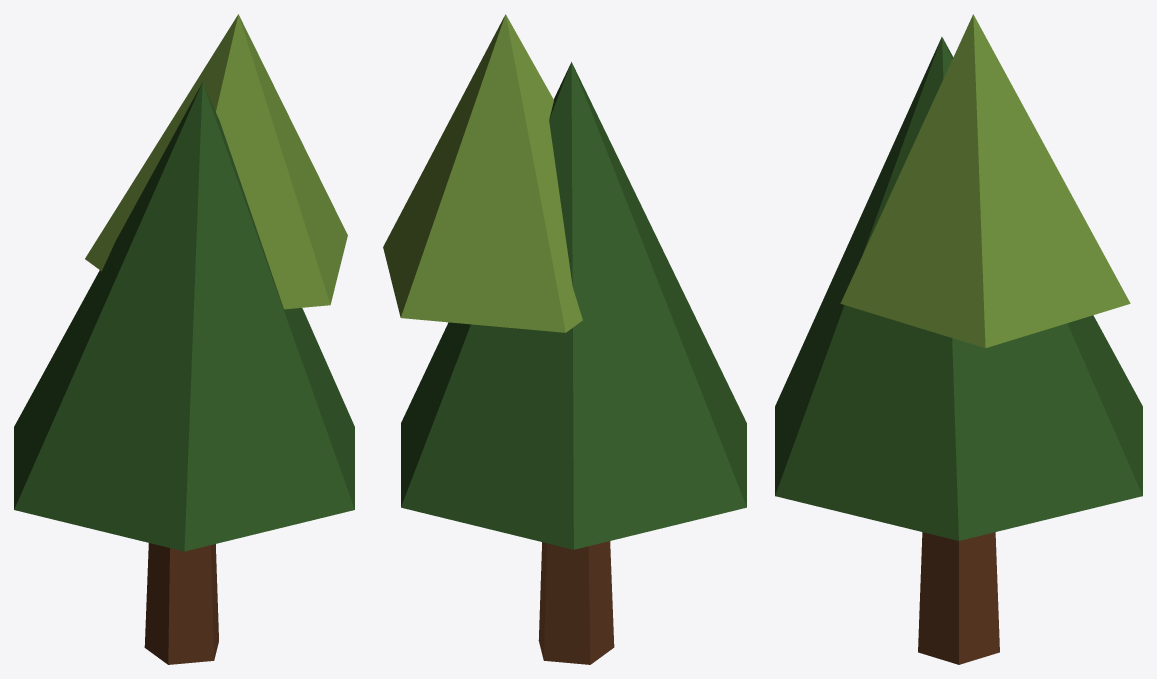
The model's file is TreeTall.fbx.
3 views of the same model, side by side, from view 1: azimuth 30°, elevation 25°; view 2: azimuth 150°, elevation 25°; view 3: azimuth 270°, elevation 25° (orthographic). The views are drawn at different scales.
Parts seen in each view (by area): view 1: TreeTall; view 2: TreeTall; view 3: TreeTall.
Boxes of the visible parts, left/top/right/bottom form: TreeTall: left=14, top=14, right=354, bottom=664; TreeTall: left=383, top=14, right=746, bottom=664; TreeTall: left=775, top=14, right=1142, bottom=664.
Bounding box in the file's own units: 52 × 88.4 × 44.34.
